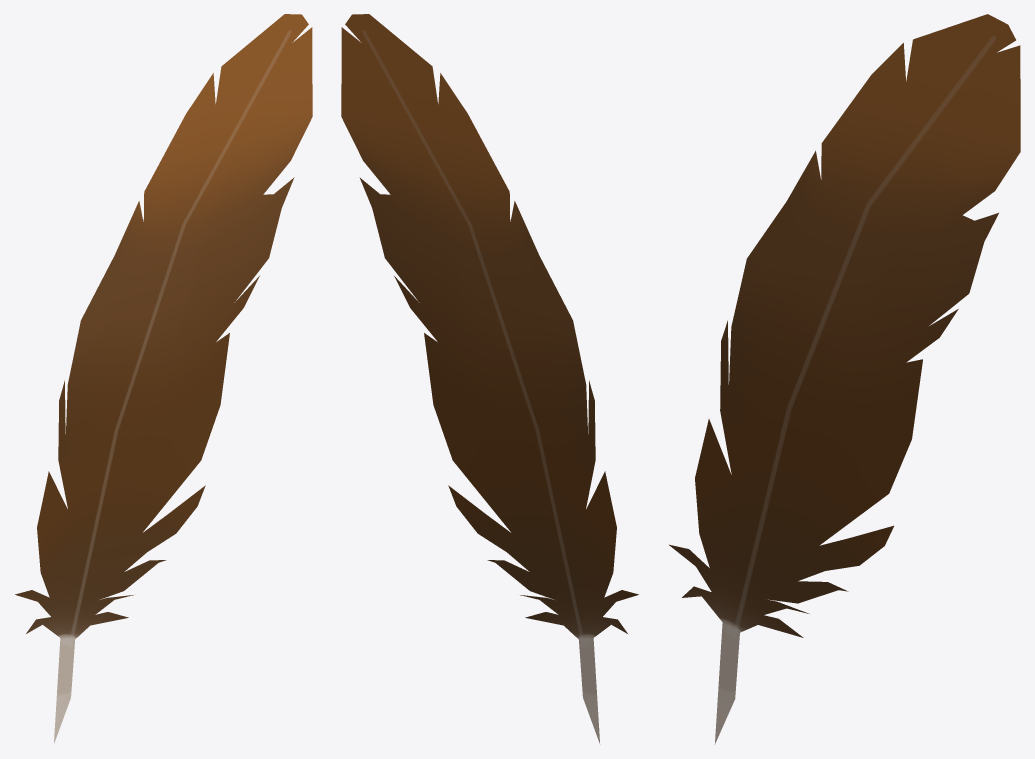
File: Feather_3.fbx
3 views of the same model, side by side, from view 1: azimuth 30°, elevation 25°; view 2: azimuth 150°, elevation 25°; view 3: azimuth 330°, elevation 25° (orthographic). The views are drawn at different scales.
Parts seen in each view (by area): view 1: polySurface1; view 2: polySurface1; view 3: polySurface1.
Part boxes in pixels (x1,y1,x2,y2): polySurface1: [15, 14, 312, 744]; polySurface1: [341, 14, 638, 744]; polySurface1: [669, 14, 1020, 744].
Bounding box in the file's own units: 0.0209 × 0.0451 × 0.
Materials: 1 (1 with a texture image).
